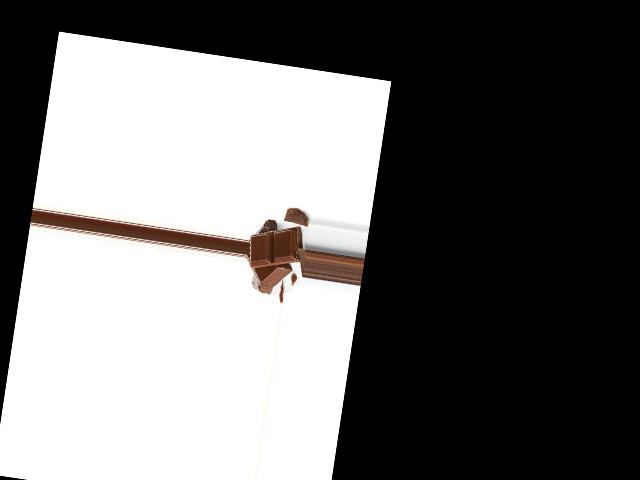chocolate: (248, 221, 303, 275)
